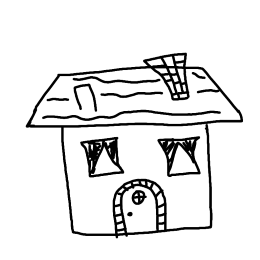chimney: (133, 47, 196, 100), (67, 82, 108, 118)
door: (106, 178, 172, 240)
open_window: (148, 133, 208, 180), (78, 130, 127, 181)
roof: (21, 60, 243, 128)
wall: (55, 117, 218, 243)
